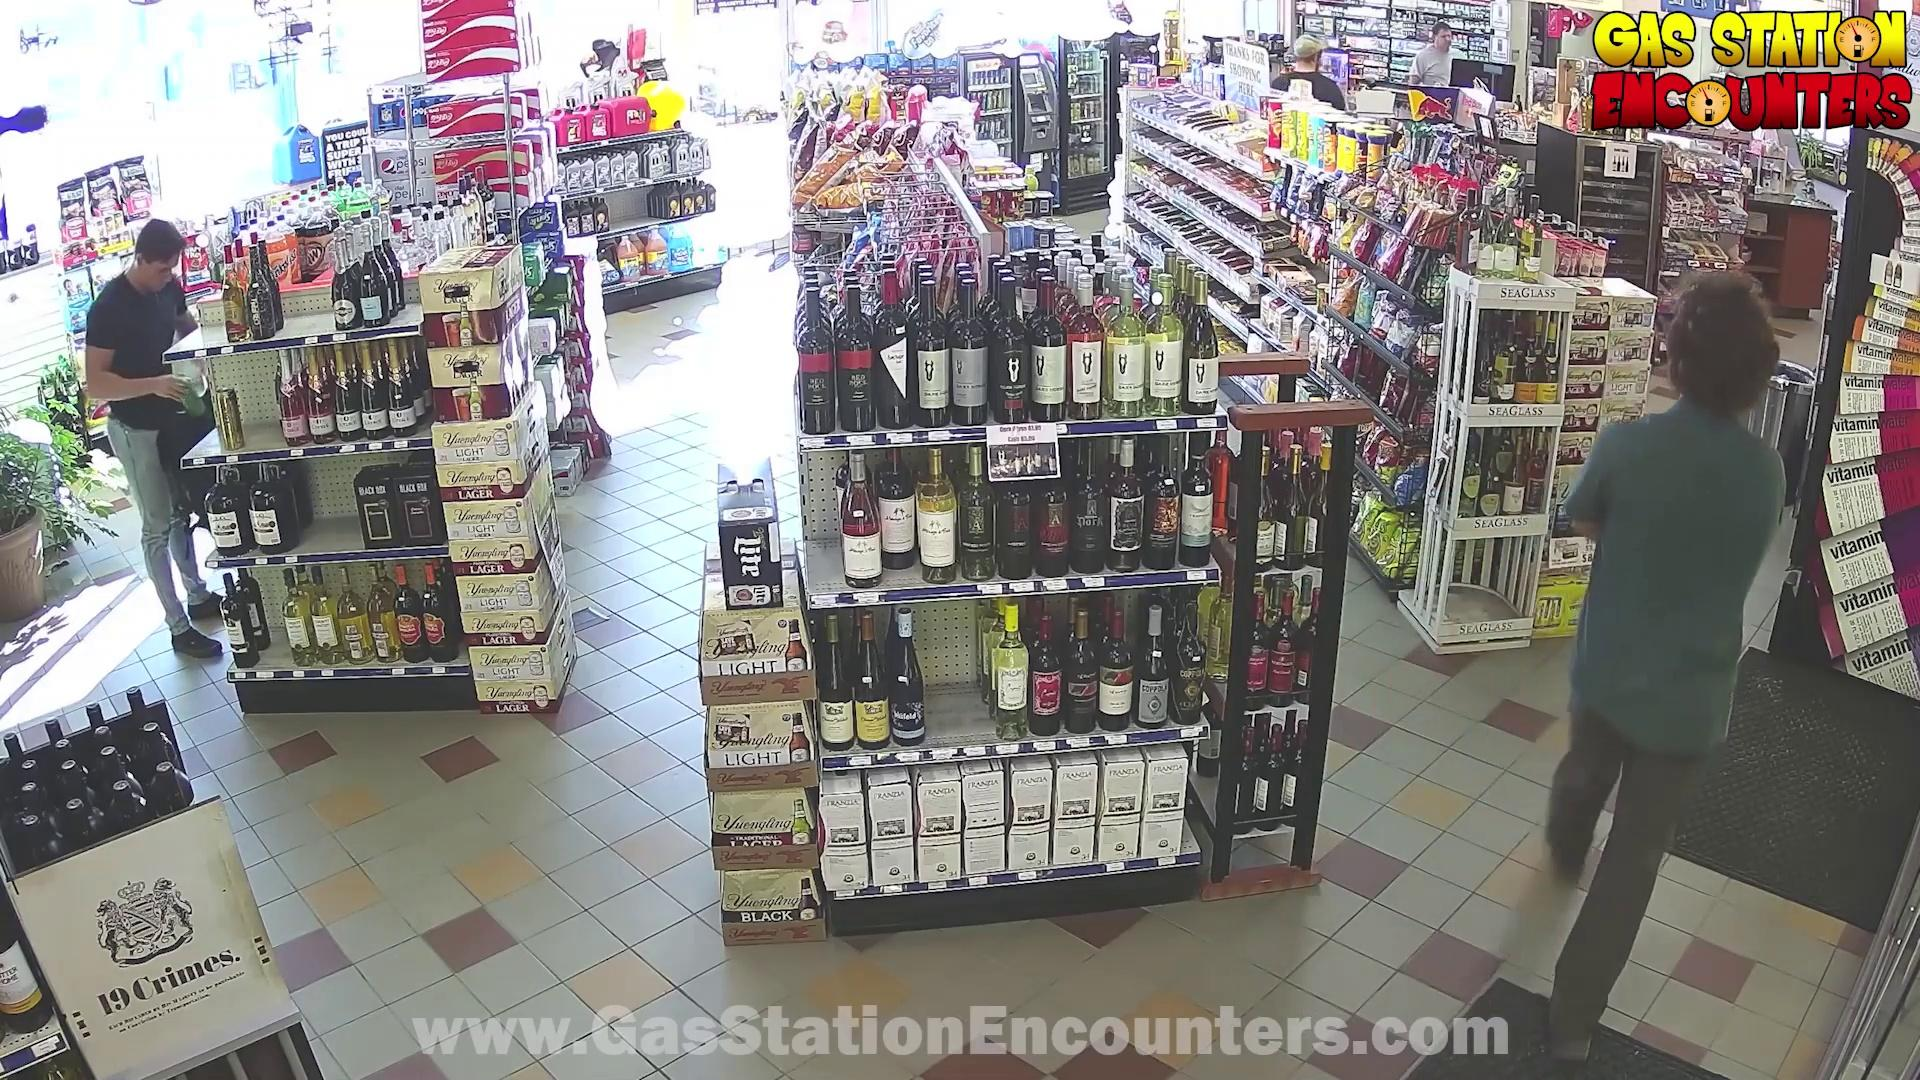Customer-Bagpack: (145, 405, 225, 509)
Product: (160, 368, 215, 417)
Product-Picked: (11, 162, 255, 695)
Regular: (1482, 237, 1912, 1079), (1373, 25, 1469, 104)
